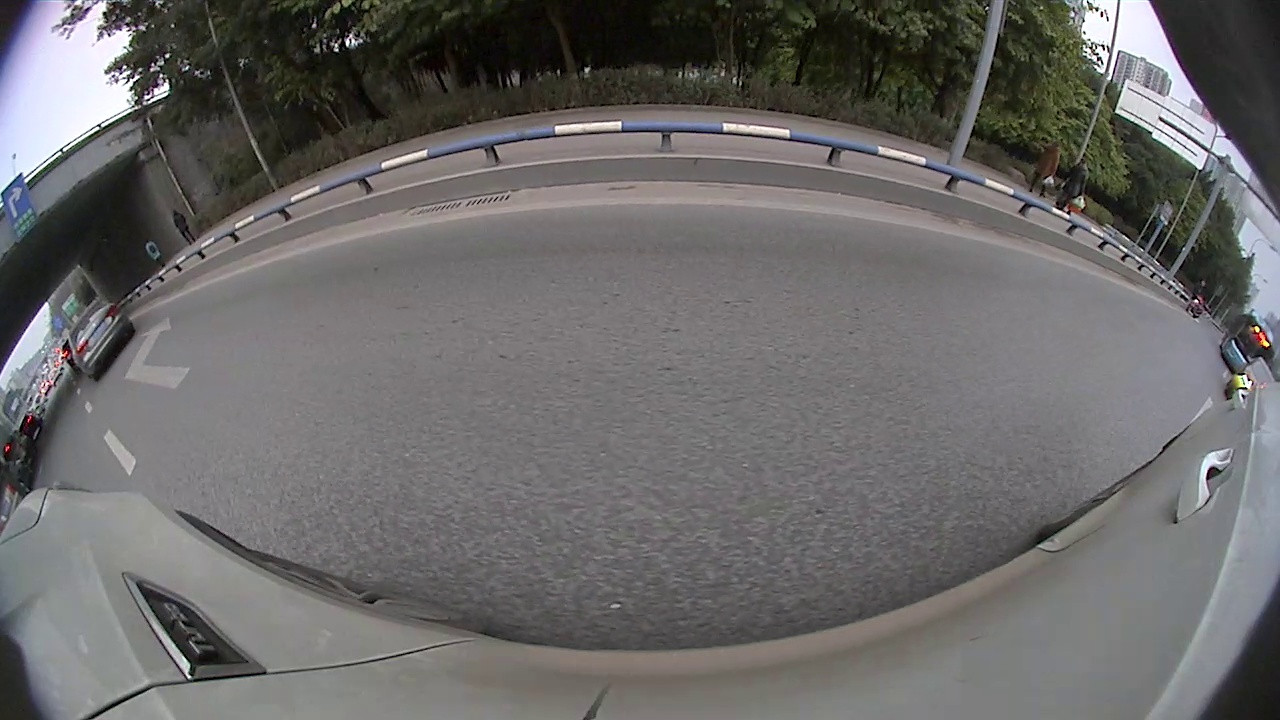bus: (1218, 311, 1278, 377)
car: (67, 298, 137, 382), (1224, 355, 1278, 404)
person: (1067, 157, 1090, 208), (1044, 140, 1062, 195)
